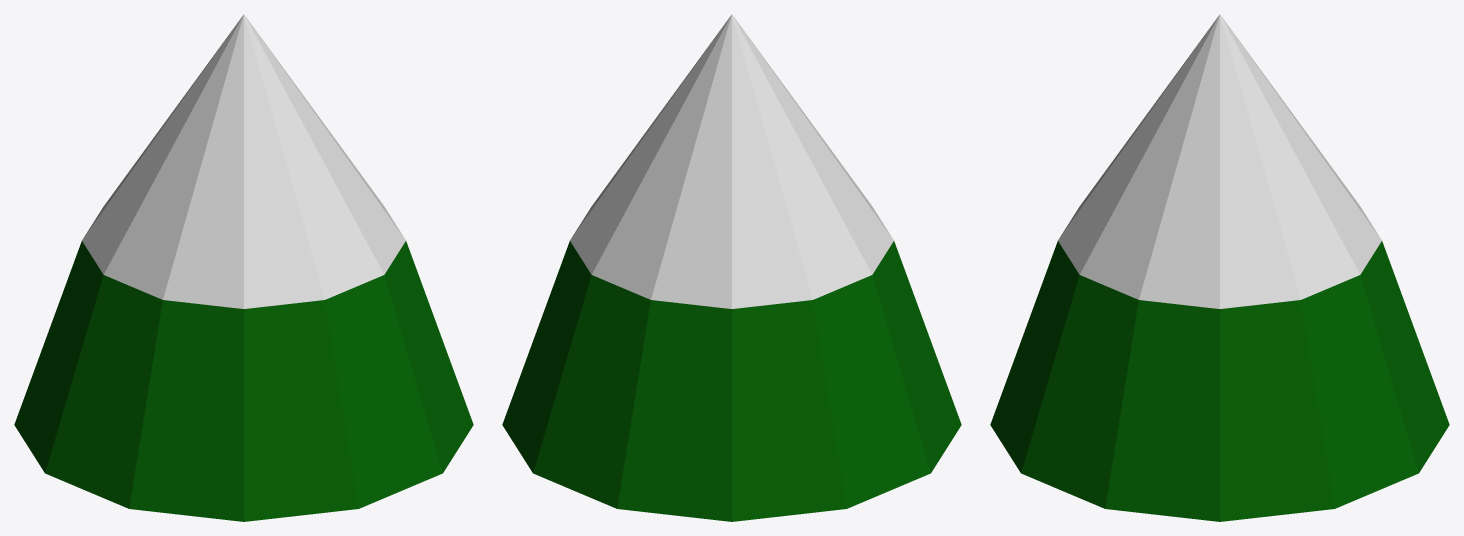
The model's file is Prop_Industrial_Rocket_Head_03.FBX.
3 renders of one model, left to right at view 1: azimuth 30°, elevation 25°; view 2: azimuth 150°, elevation 25°; view 3: azimuth 270°, elevation 25°, orthographic.
Visible parts, largest first — view 1: Prop_Industrial_Rocket_Head_03; view 2: Prop_Industrial_Rocket_Head_03; view 3: Prop_Industrial_Rocket_Head_03.
Part boxes in pixels (x1,y1,x2,y2): Prop_Industrial_Rocket_Head_03: (14, 14, 473, 521); Prop_Industrial_Rocket_Head_03: (502, 14, 961, 521); Prop_Industrial_Rocket_Head_03: (990, 14, 1449, 521).
Size of the model in its own units: 1538 by 1518 by 1538.
